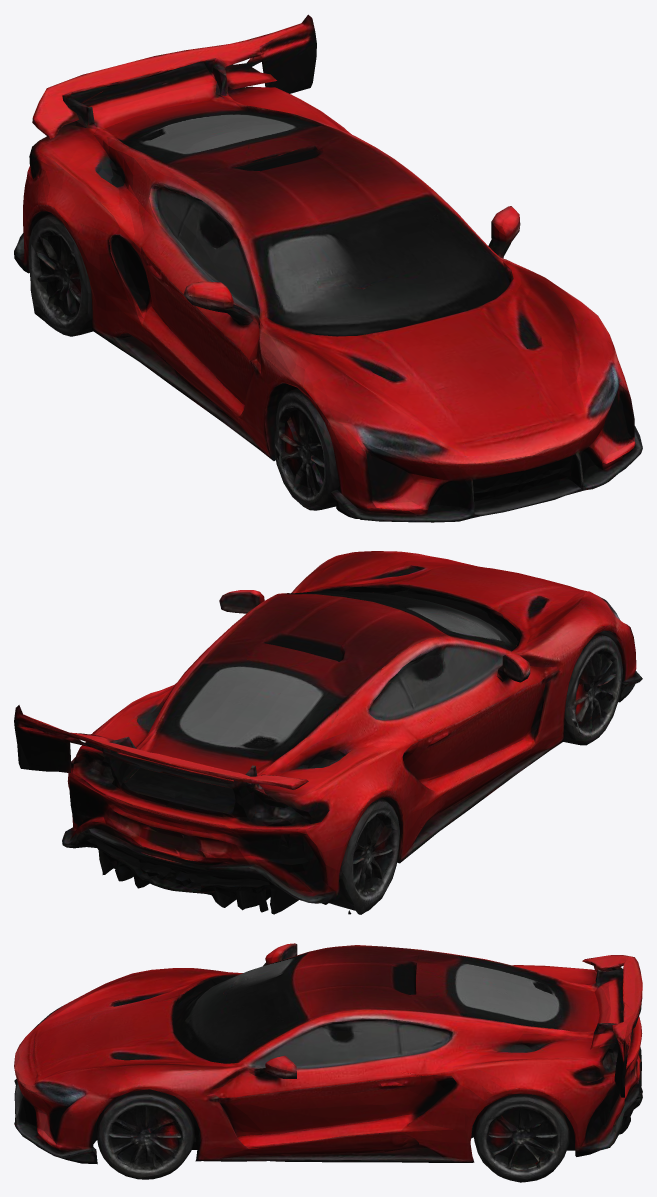
The model's file is gt_coupe.glb.
3 renders of one model, top to bottom at view 1: azimuth 30°, elevation 25°; view 2: azimuth 150°, elevation 25°; view 3: azimuth 270°, elevation 25°, orthographic. The views are drawn at different scales.
Parts seen in each view (by area): view 1: world; view 2: world; view 3: world.
Part boxes in pixels (box(x1,y1,x2,y2)): world: box(14, 14, 642, 522); world: box(14, 551, 642, 914); world: box(14, 943, 642, 1182).
Size of the model in its own units: 0.4912 by 0.2721 by 1.
1 material, 1 textured.
